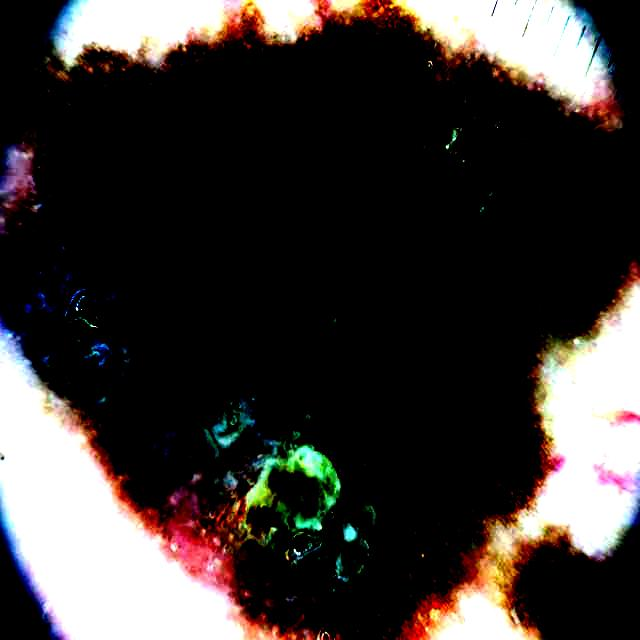MEL: (0, 11, 606, 637)
